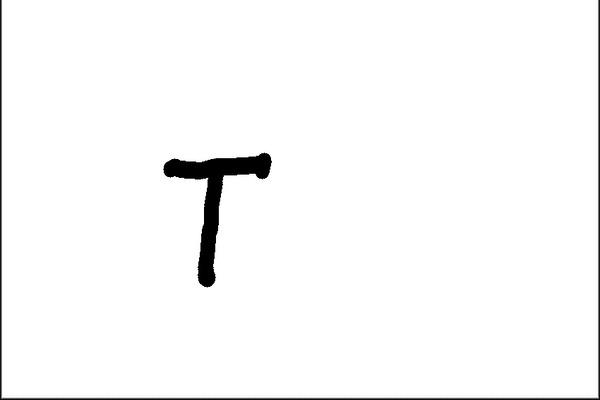T: (159, 146, 276, 290)
